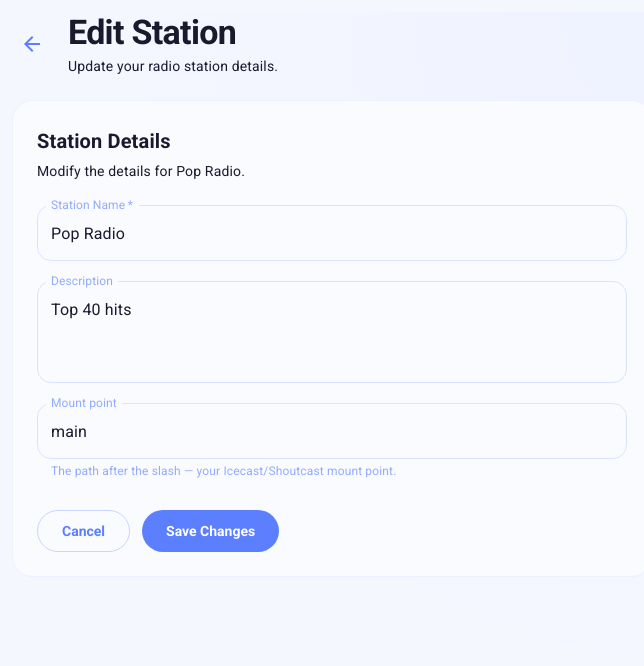
Scenario: Edit Station Page › shows error on save failure
The image size is (644, 666).
Expected: the field showing "Pop Radio" is shown, [37,205,627,261]
Click the button "Save Changes": (211, 531) [142,510,279,552]
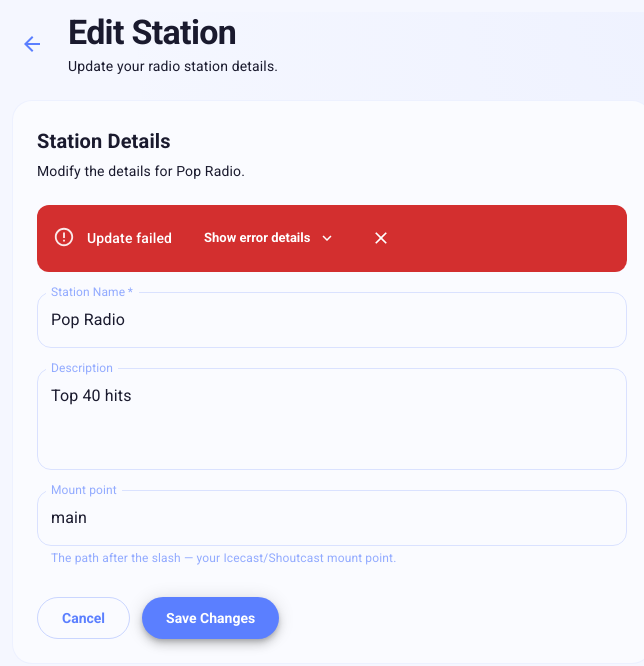
Expected: the message "Update failed Show error details" is shown, [37,205,627,272]
